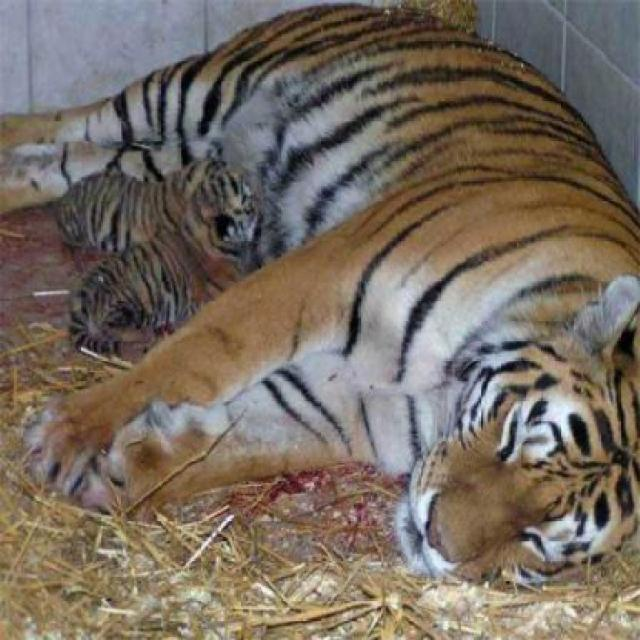tiger: (1, 1, 639, 588), (52, 150, 268, 357)
